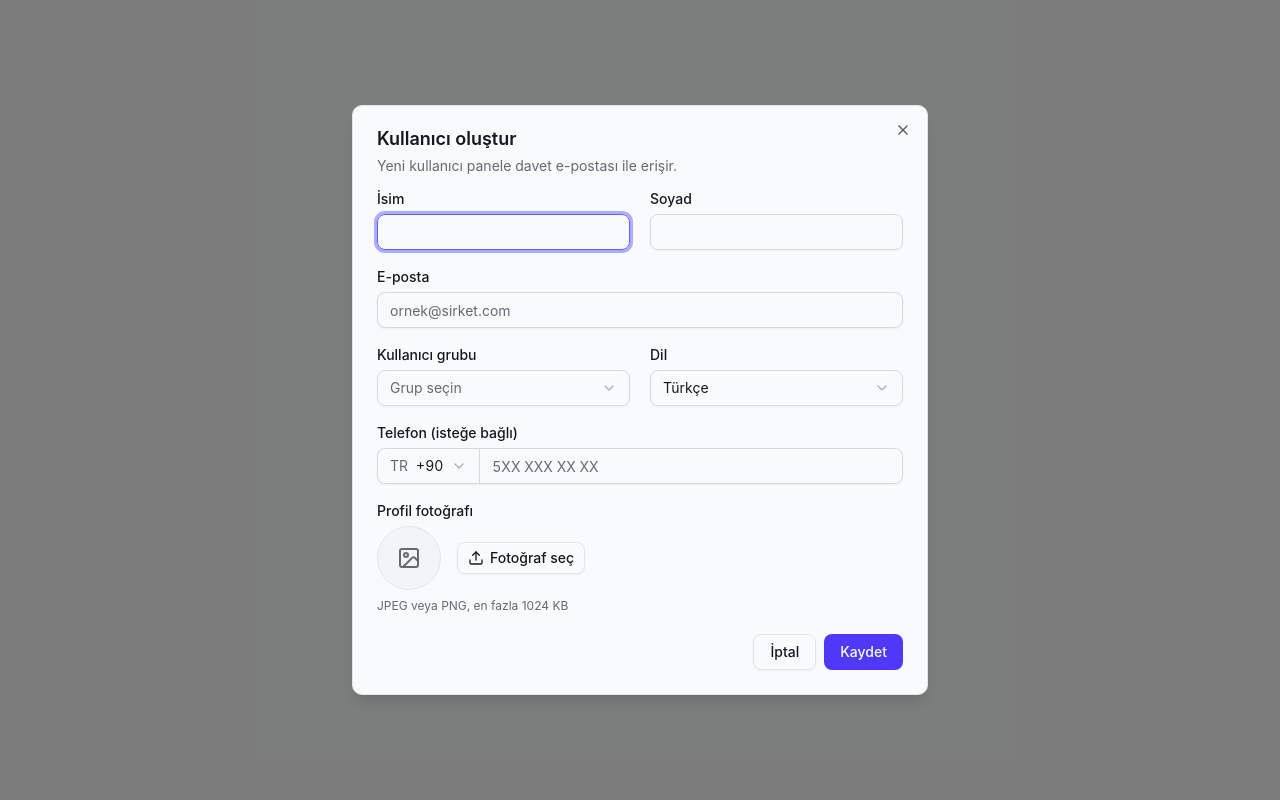
it: CreateUserDialog › keeps the input and reports the problem when creating fails
Type "Ada" into the field labelled "İsim" at (504, 232), box [377,214,630,250]
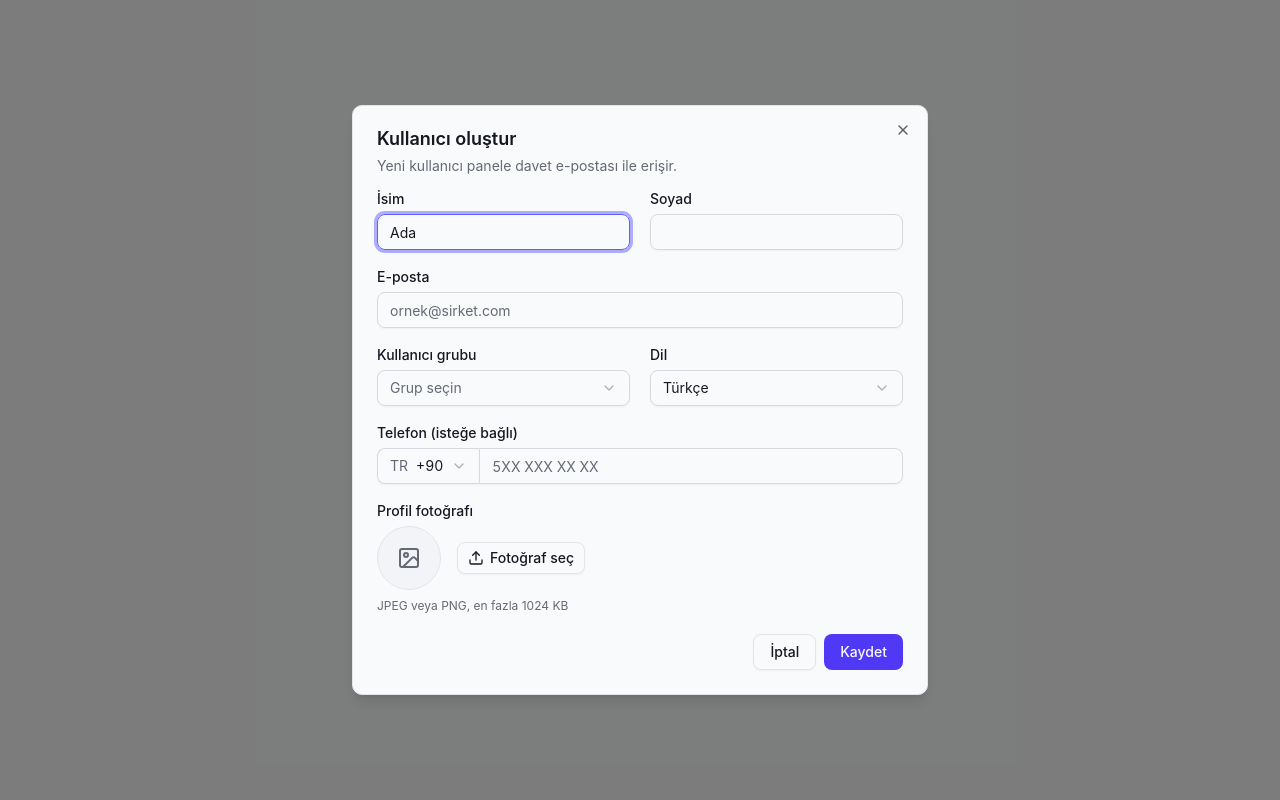
Type "Lovelace" into the field labelled "Soyad" at (776, 232), box [650,214,903,250]
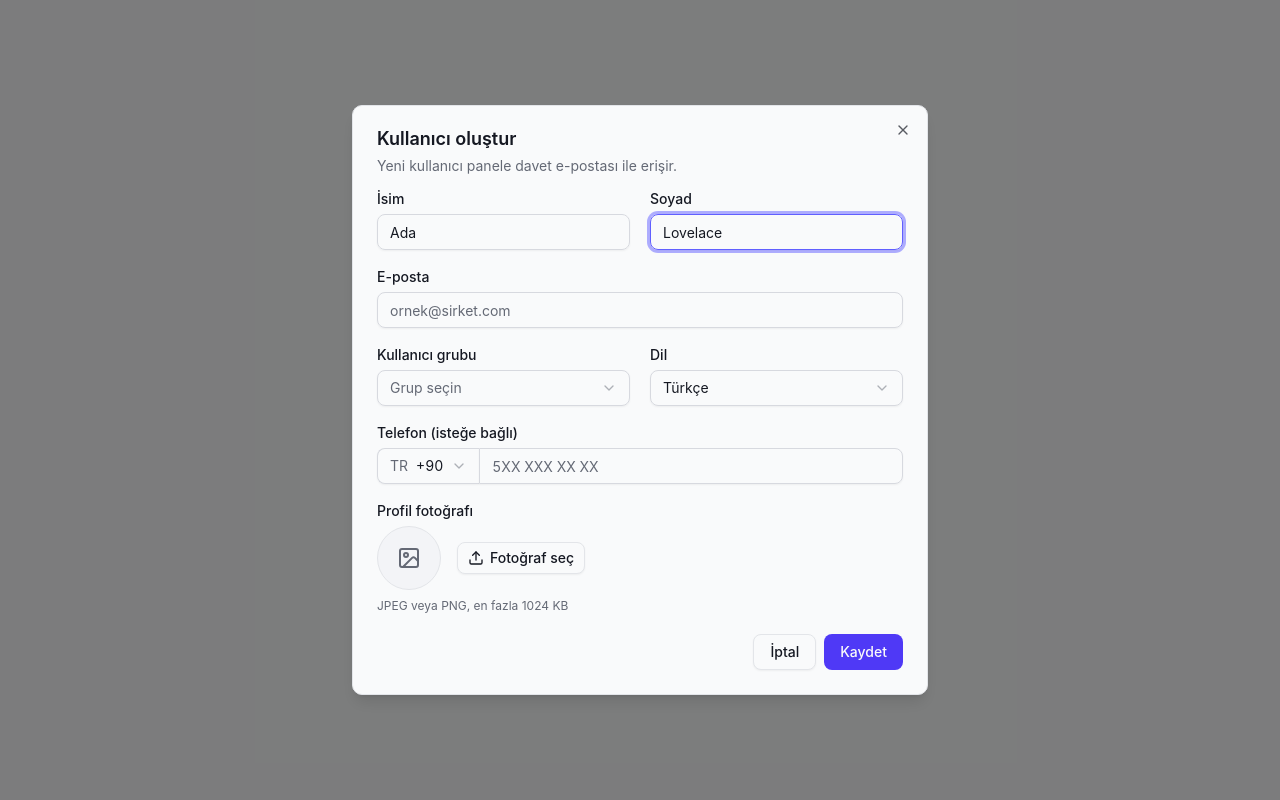
Type "ada@example.com" into the field labelled "E-posta" at (640, 310), box [377,292,903,328]
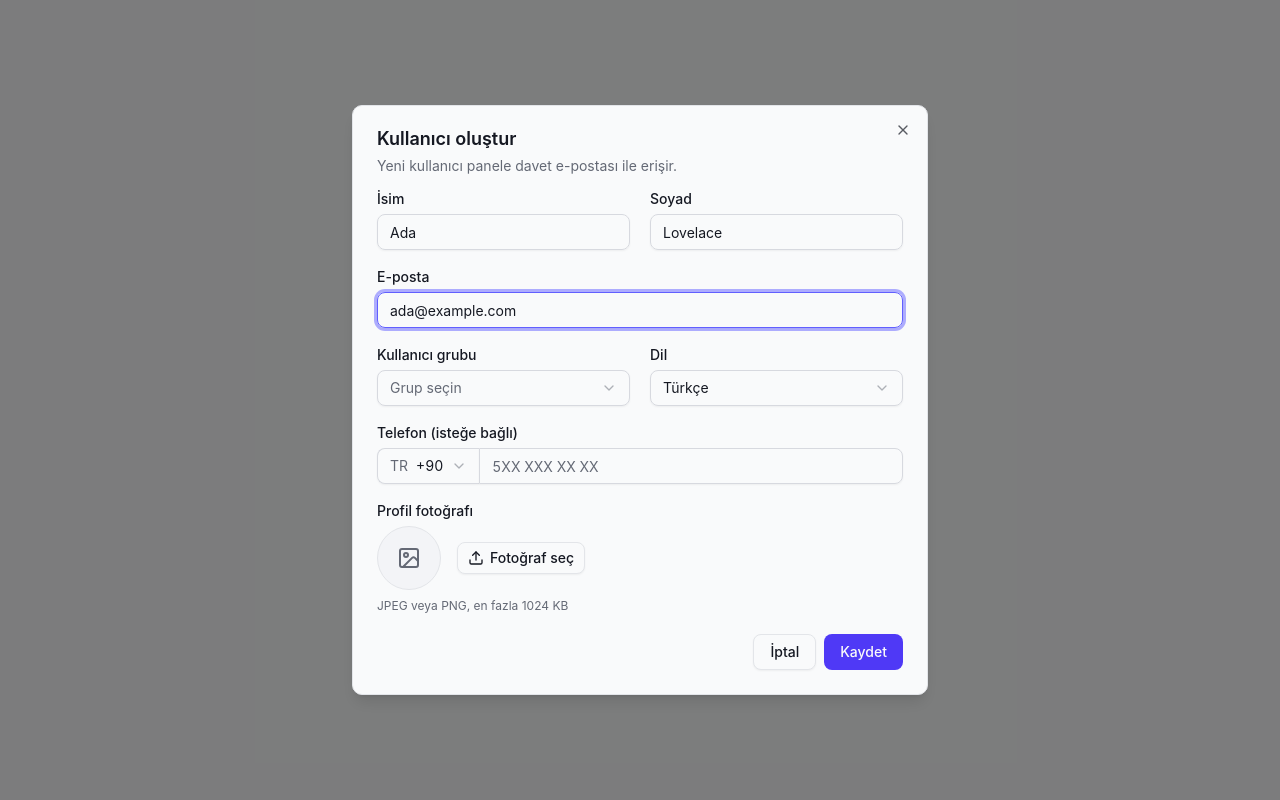
Click the dropdown named "Kullanıcı grubu" at (504, 388), box [377,370,630,406]
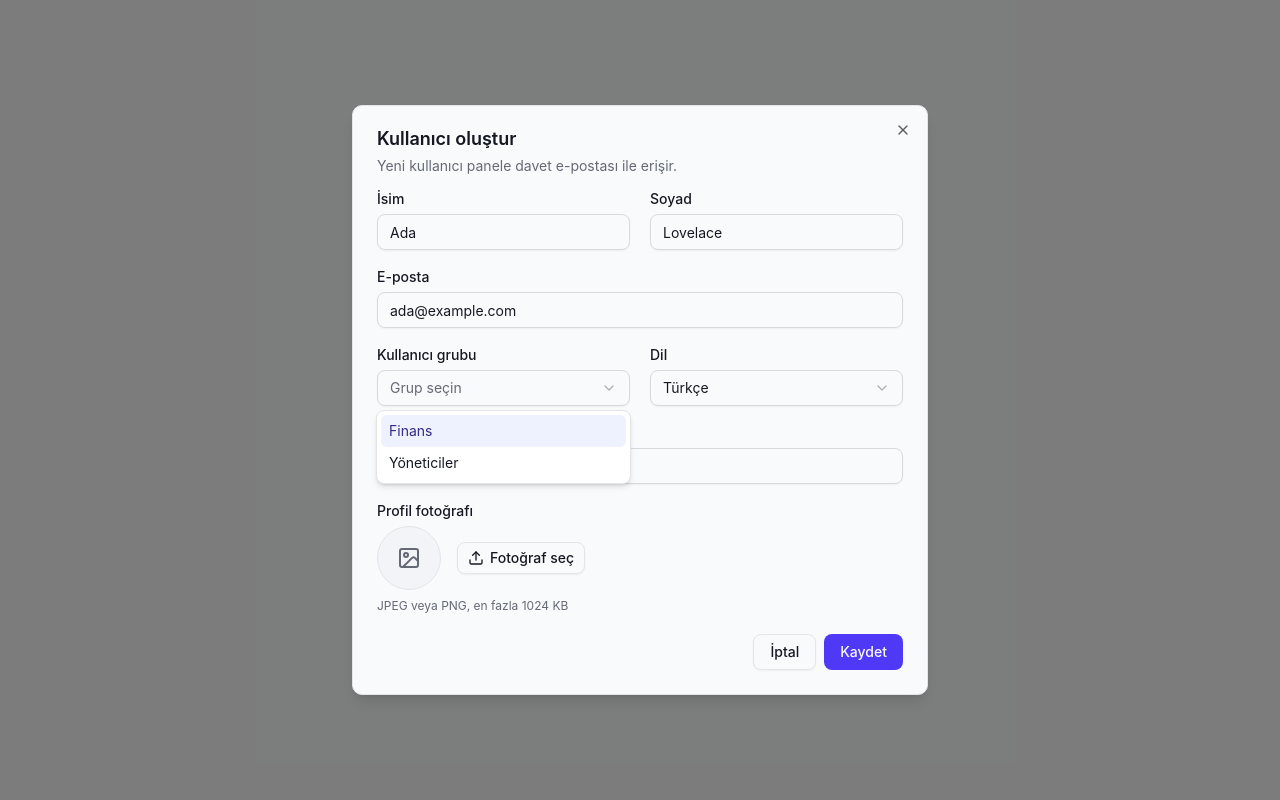
Click the option "Finans" at (504, 431), box [381,415,626,447]
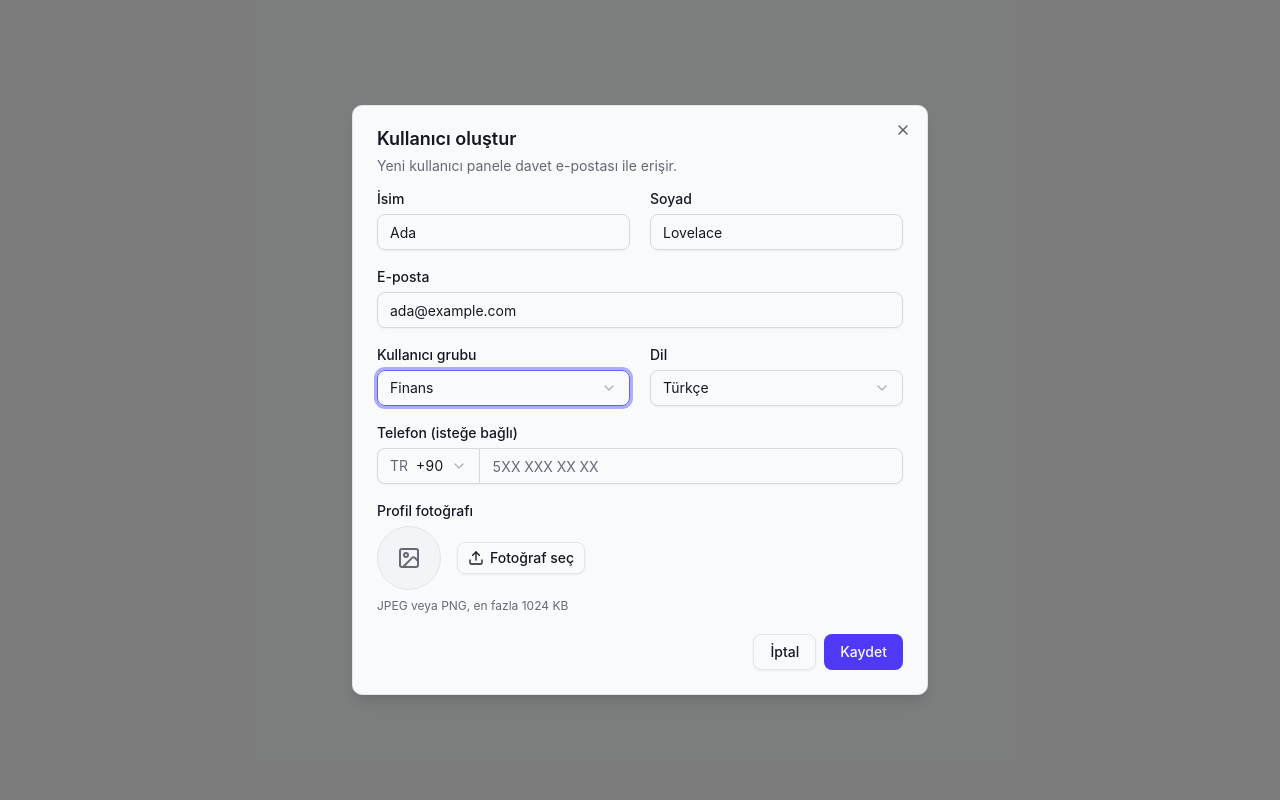
Click the button "Kaydet" at (864, 652), box [824,634,903,670]
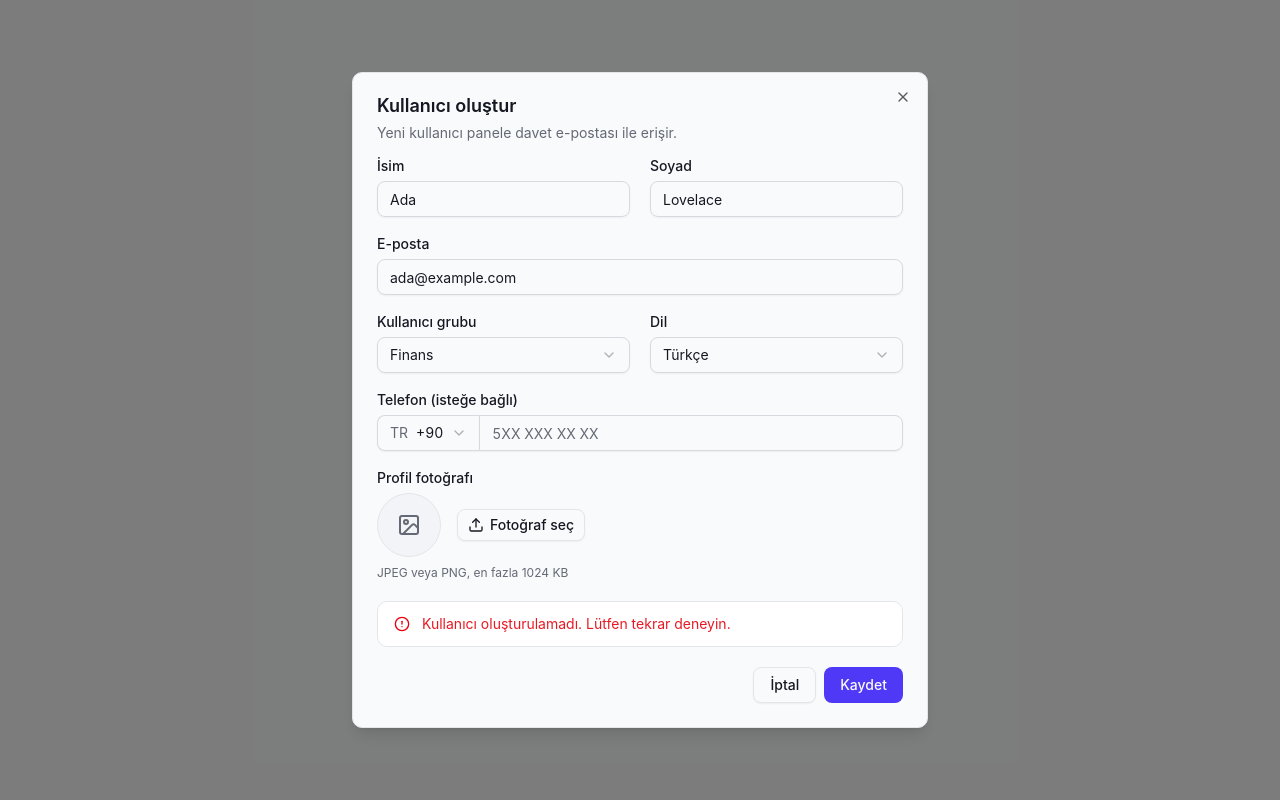
Expected: the message reads "Kullanıcı oluşturulamadı. Lütfen tekrar deneyin.", [422,615,731,632]
